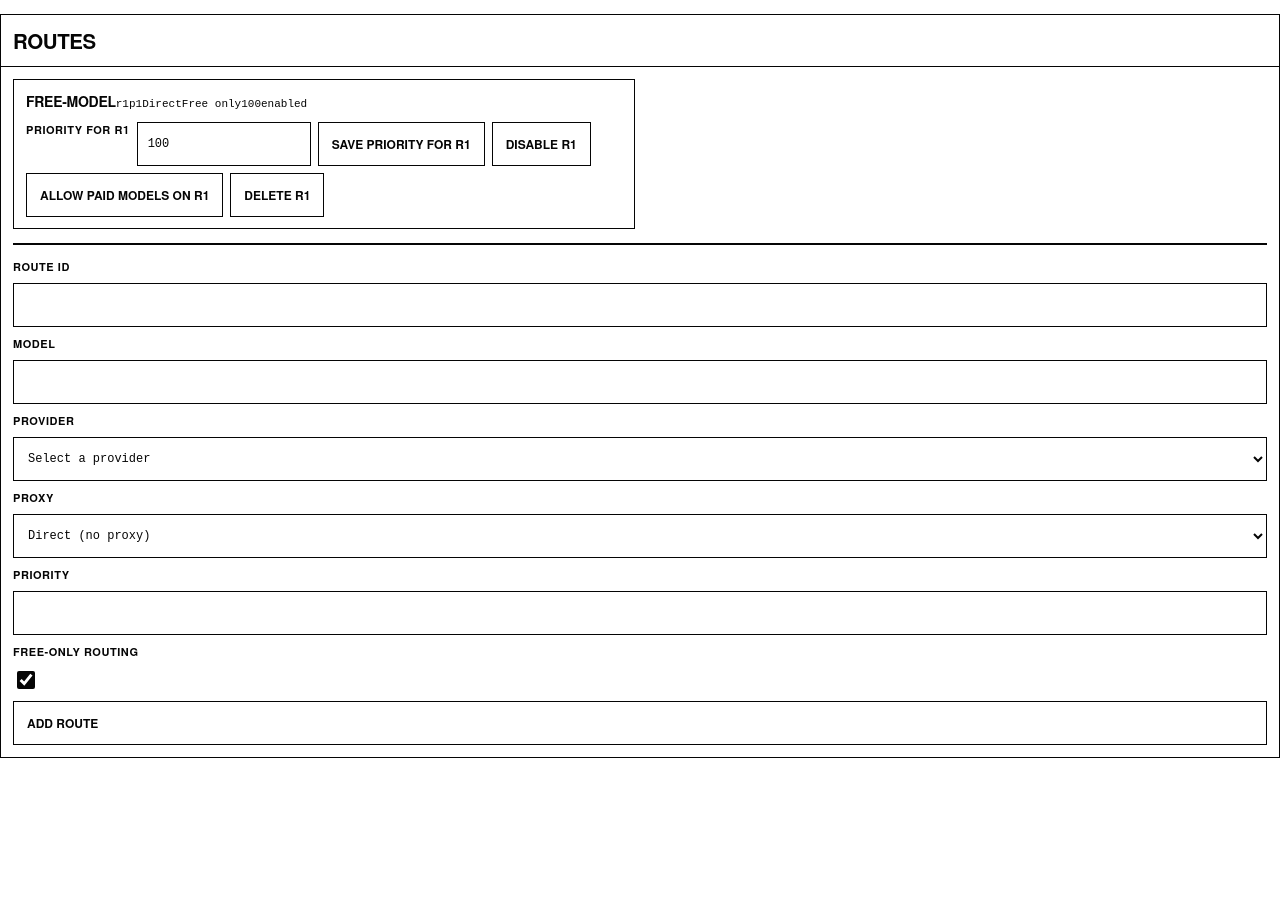
Scenario: free-only route controls › warns in plain language when free-only is turned off on the form
The width and height of the screenshot is (1280, 900).
Click the checkbox with test id "route-free-only" at (26, 680), box top-left (17, 671), bottom-right (35, 689)
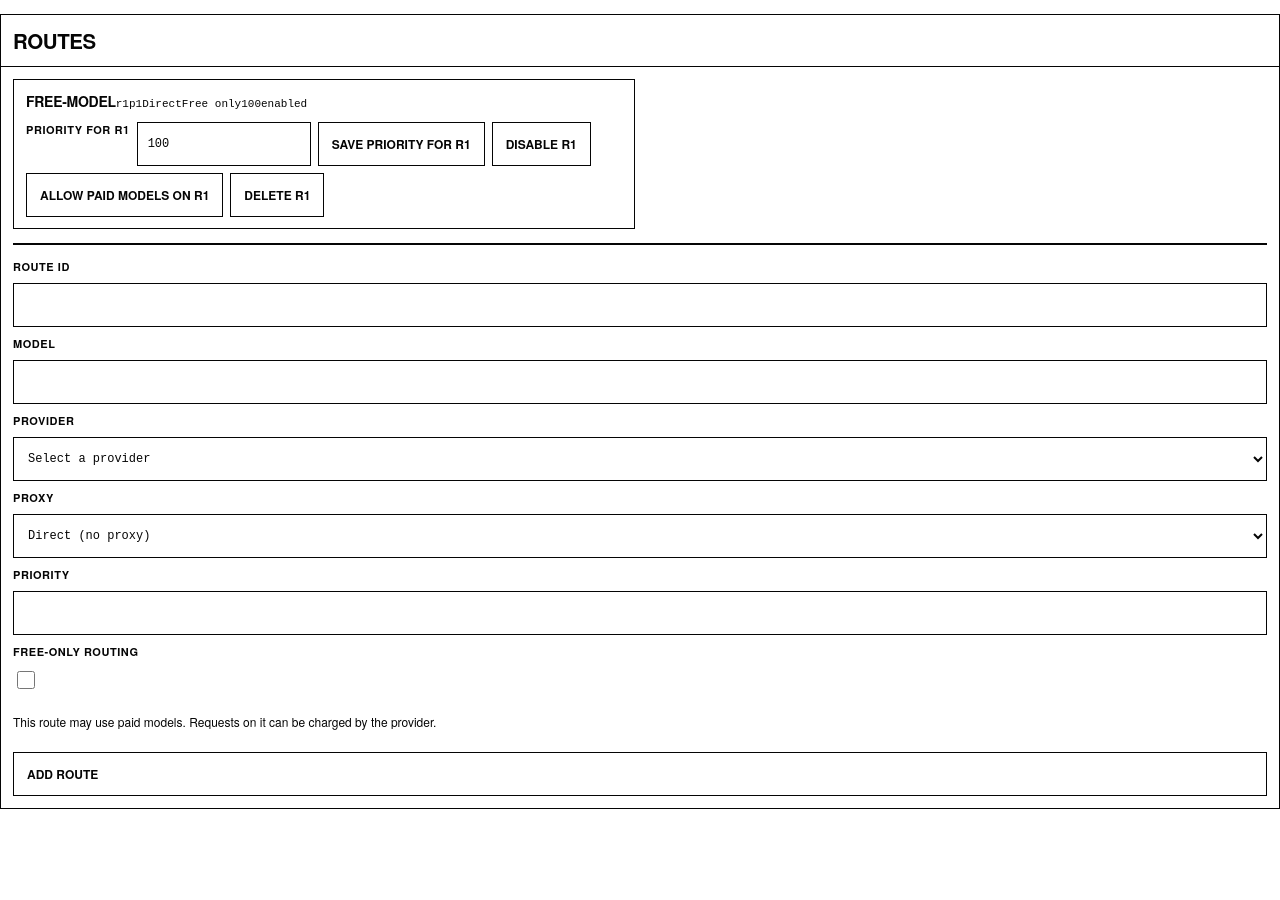
Result: the text with test id "paid-warning" reads "This route may use paid models. Requests on it can be charged by the provider." at top-left (13, 713), bottom-right (436, 730)
